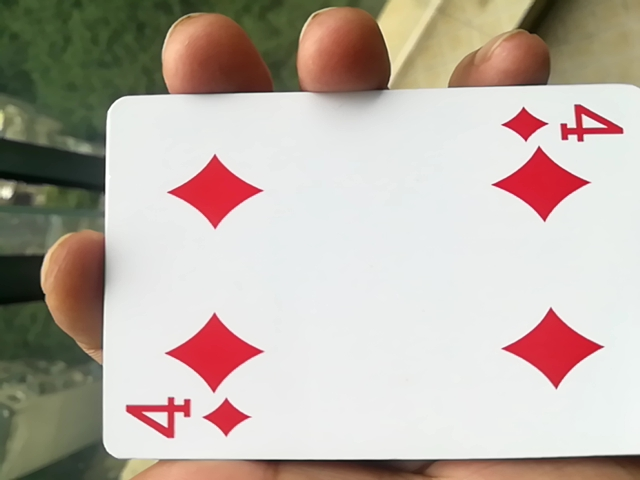fk 4: (87, 91, 636, 471)
